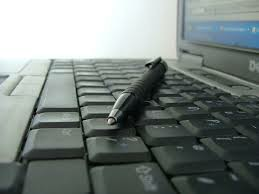pen: (110, 55, 167, 122)
